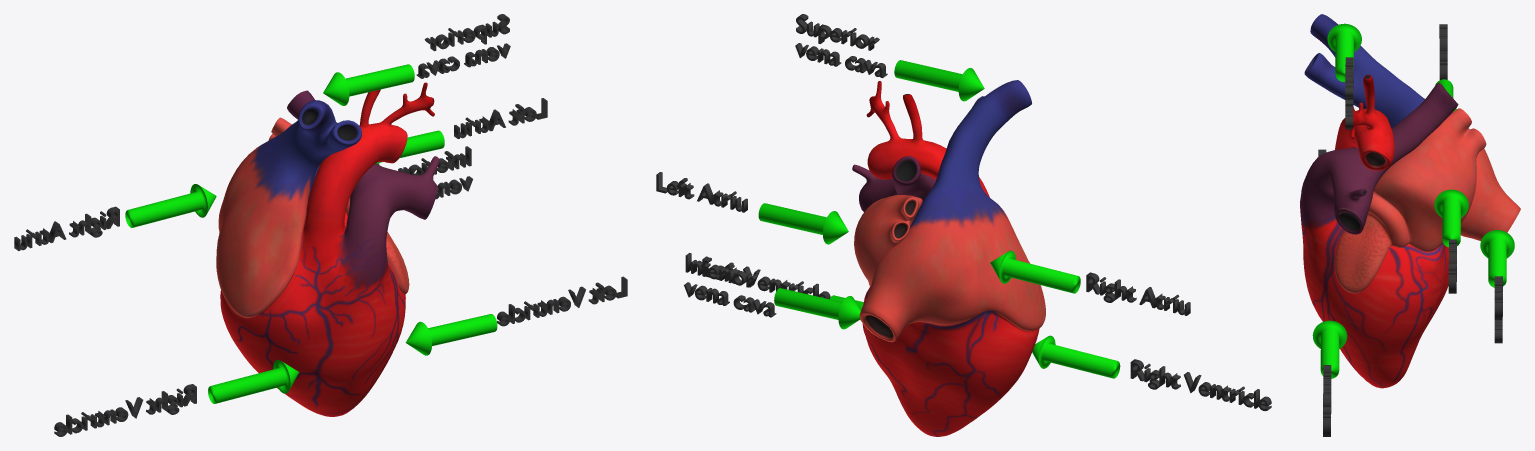
File: heart2.gltf
The picture shows the model from 3 angles, left to right: view 1: azimuth 30°, elevation 25°; view 2: azimuth 150°, elevation 25°; view 3: azimuth 270°, elevation 25°; orthographic projection.
Visible parts, largest first — view 1: node_id30_mesh_id31.001, Text.004, Text.002, Cylinder.000, Cylinder.002, Cylinder.004, Cylinder.003, Text.003, Text, Text.005, Text.001, Cylinder.001; view 2: node_id30_mesh_id31.001, Text.004, Text.005, Text.002, Cylinder.000, Cylinder.004, Cylinder.001, Cylinder.002, Cylinder.005, Text, Text.001, Text.003; view 3: node_id30_mesh_id31.001, Cylinder.001, Cylinder.003, Cylinder.005, Cylinder.004, Text.004, Text.003, Text.005, Text, Text.001.
Boxes of the visible parts, bbox=[...] form: node_id30_mesh_id31.001: bbox=[216, 82, 439, 416]; Text.004: bbox=[416, 14, 510, 78]; Text.002: bbox=[54, 384, 196, 436]; Cylinder.000: bbox=[125, 184, 216, 227]; Cylinder.002: bbox=[208, 360, 299, 403]; Cylinder.004: bbox=[323, 64, 414, 105]; Cylinder.003: bbox=[405, 314, 497, 355]; Text.003: bbox=[497, 276, 627, 326]; Text: bbox=[14, 206, 119, 250]; Text.005: bbox=[398, 146, 472, 199]; Text.001: bbox=[454, 98, 547, 138]; Cylinder.001: bbox=[376, 130, 444, 164]; node_id30_mesh_id31.001: bbox=[852, 80, 1045, 436]; Text.004: bbox=[795, 14, 887, 77]; Text.005: bbox=[684, 253, 776, 317]; Text.002: bbox=[1130, 359, 1271, 411]; Cylinder.000: bbox=[990, 250, 1080, 293]; Cylinder.004: bbox=[894, 60, 984, 101]; Cylinder.001: bbox=[758, 203, 848, 244]; Cylinder.002: bbox=[1032, 335, 1120, 378]; Cylinder.005: bbox=[774, 288, 860, 329]; Text: bbox=[1086, 272, 1190, 315]; Text.001: bbox=[656, 172, 747, 212]; Text.003: bbox=[702, 256, 830, 299]; node_id30_mesh_id31.001: bbox=[1300, 14, 1520, 388]; Cylinder.001: bbox=[1434, 189, 1468, 247]; Cylinder.003: bbox=[1312, 320, 1347, 378]; Cylinder.005: bbox=[1480, 230, 1514, 287]; Cylinder.004: bbox=[1327, 23, 1361, 81]; Text.004: bbox=[1345, 57, 1353, 129]; Text.003: bbox=[1323, 365, 1331, 436]; Text.005: bbox=[1494, 276, 1502, 343]; Text: bbox=[1439, 24, 1447, 79]; Text.001: bbox=[1448, 239, 1456, 293].
Size of the model in its own units: 37.53 by 23.54 by 12.66.
3 materials, 1 textured.
